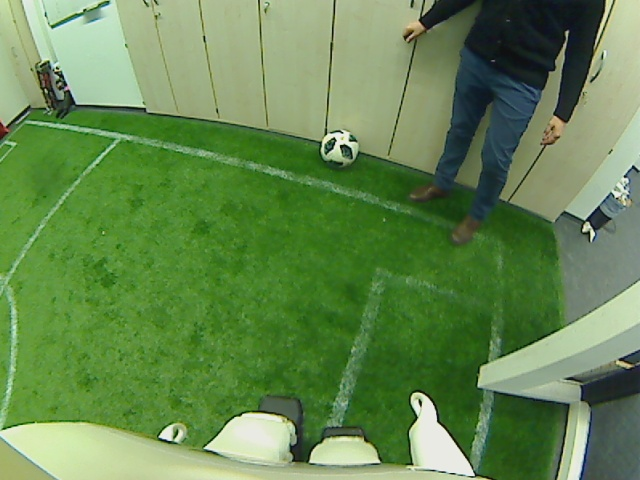ball: (318, 127, 360, 169)
